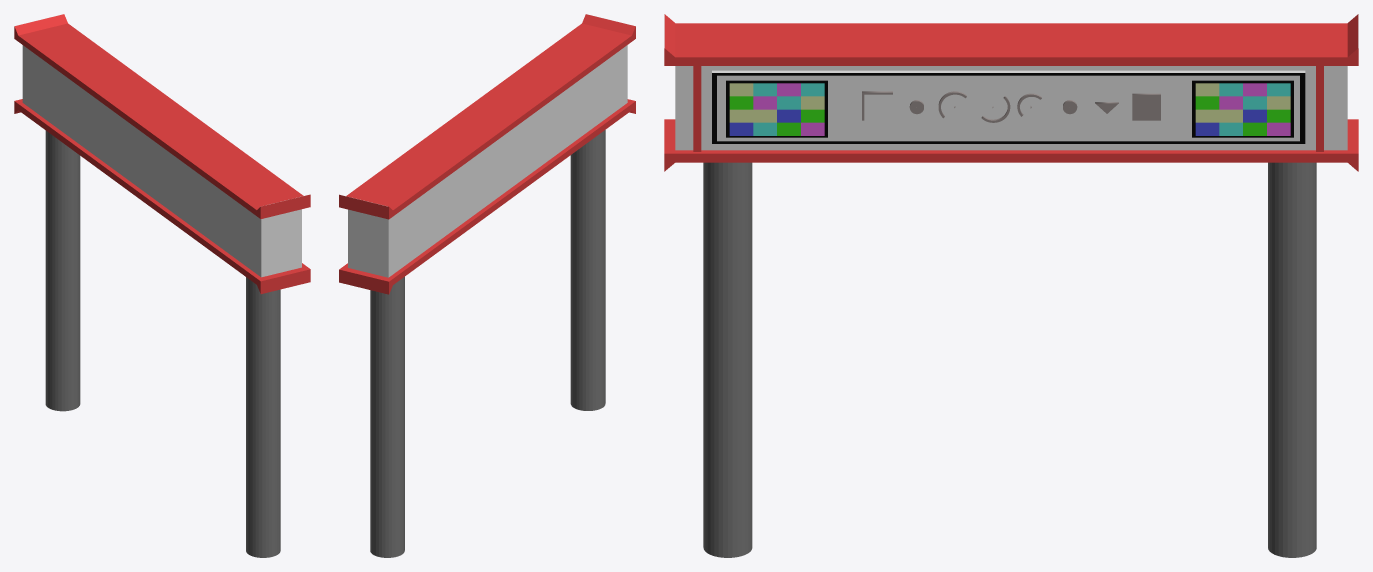
The model's file is FAMOOUSSTREETSIGN.fbx.
3 views of the same model, side by side, from view 1: azimuth 30°, elevation 25°; view 2: azimuth 150°, elevation 25°; view 3: azimuth 270°, elevation 25° (orthographic). The views are drawn at different scales.
Visible parts, largest first — view 1: Cube, Cylinder.001; view 2: Cube, Cylinder.001; view 3: Cube, Cylinder.001, Cube.001, Cube.002, Text.
Part boxes in pixels (x1,y1,x2,y2): Cube: (14, 14, 310, 294); Cylinder.001: (45, 130, 280, 557); Cube: (339, 14, 635, 294); Cylinder.001: (370, 130, 605, 557); Cube: (664, 14, 1358, 171); Cylinder.001: (703, 162, 1316, 557); Cube.001: (726, 80, 827, 137); Cube.002: (1192, 80, 1293, 137); Text: (862, 91, 1160, 122).
Bounding box in the file's own units: 424 × 2965 × 3614.
